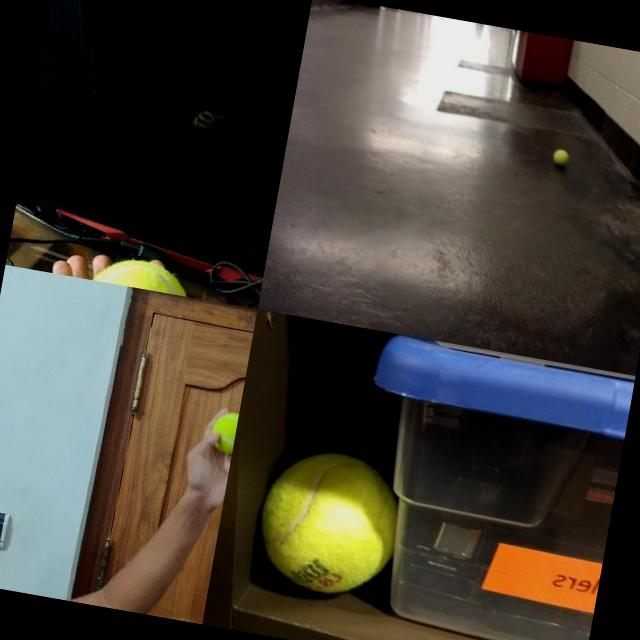Tennis Ball: (248, 441, 394, 603), (85, 250, 200, 297), (207, 407, 239, 454), (550, 147, 570, 167)
